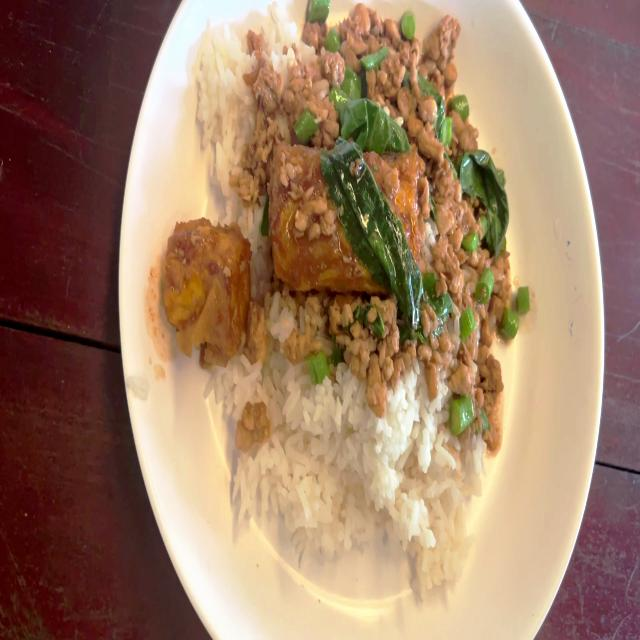fried_tofo: (266, 143, 428, 282), (172, 233, 245, 359)
minced_pork: (245, 6, 500, 144), (429, 129, 520, 445)
rice: (224, 363, 484, 578)
stir_fried_basil: (169, 0, 519, 609)
